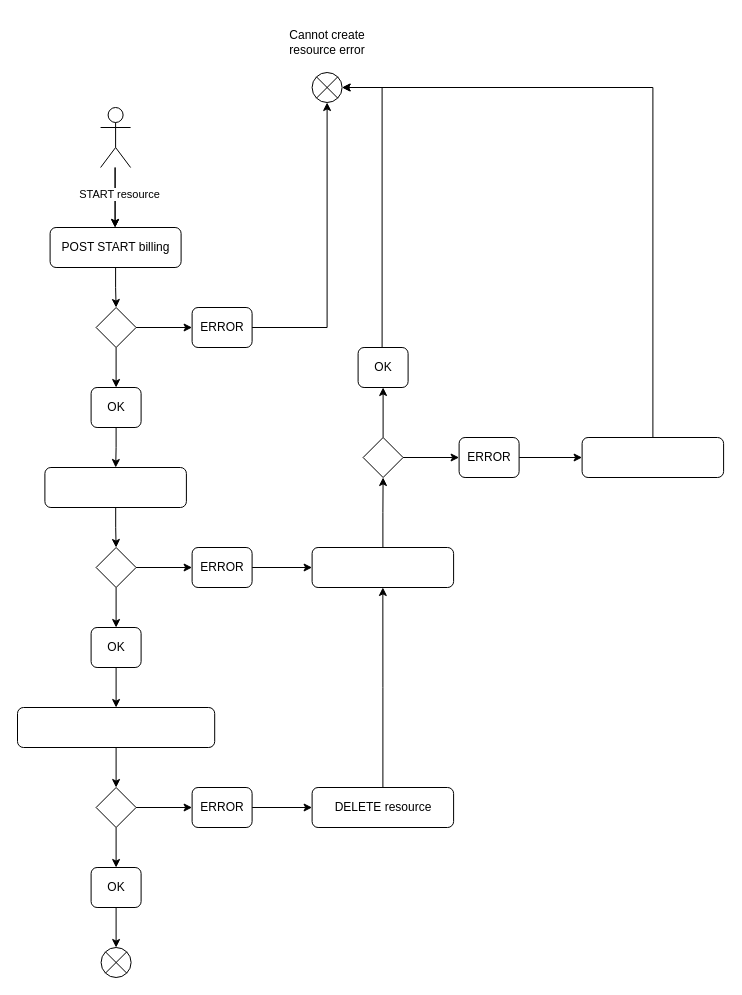
This 742x995 diagram has some shape labels left out. The centre of each missing label's shape, as x and y in pixels:
"Client" goes at point (115, 137).
"POST START resource" goes at point (115, 487).
"PUT SET uid resource into billing" goes at point (115, 727).
"PUT STOP billing" goes at point (382, 567).
"Ticket-mail da billing portal a elemento" goes at point (652, 457).
